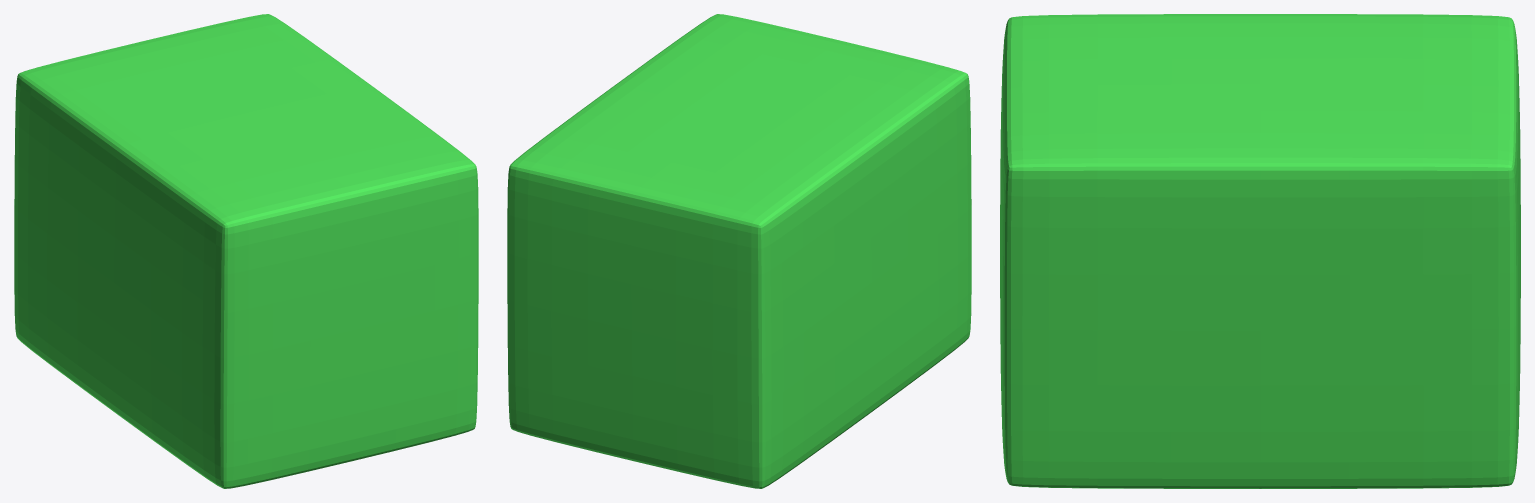
File: PTvideo028_green.fbx
The picture shows the model from 3 angles, left to right: view 1: azimuth 30°, elevation 25°; view 2: azimuth 150°, elevation 25°; view 3: azimuth 270°, elevation 25°; orthographic projection. The views are drawn at different scales.
Parts seen in each view (by area): view 1: Cube3х3.002; view 2: Cube3х3.002; view 3: Cube3х3.002.
Part boxes in pixels (x1,y1,x2,y2): Cube3х3.002: (14, 14, 478, 488); Cube3х3.002: (507, 14, 971, 488); Cube3х3.002: (1000, 14, 1520, 488).
Size of the model in its own units: 36.84 by 36.84 by 51.86.
